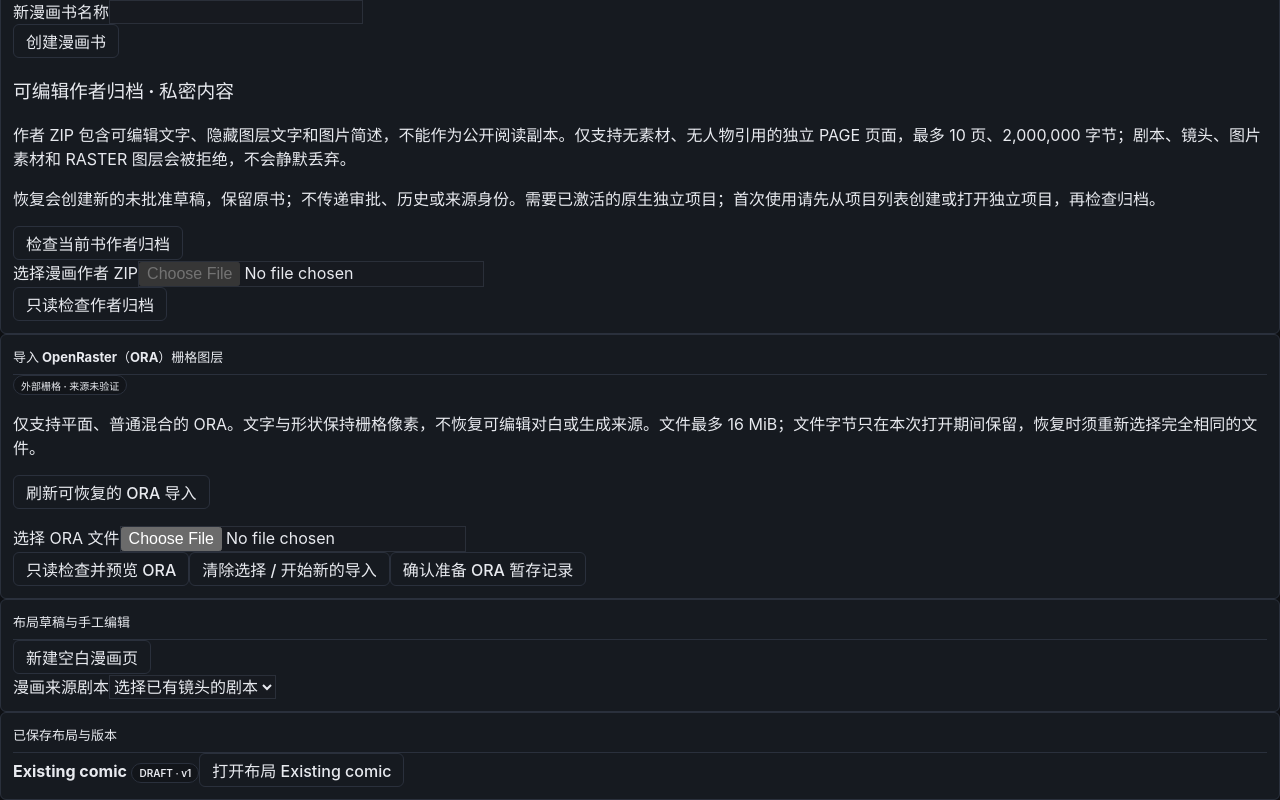
Scenario: an explicitly stale backend record hides an already opened private comic brief after refresh
(page scrolled)
Click the button "打开布局 Existing comic": {"x": 302, "y": 770} [199, 753, 404, 787]
(page scrolled)
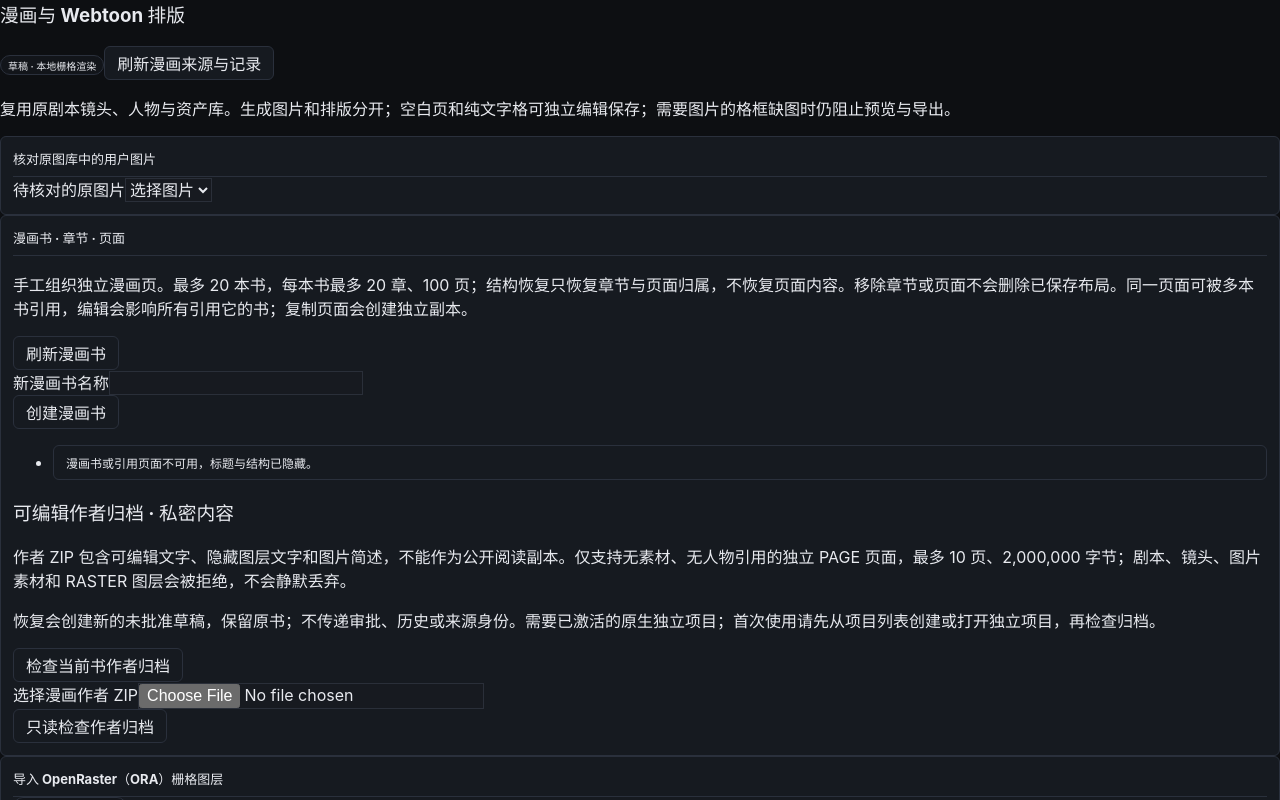
Click the button "刷新漫画来源与记录": {"x": 189, "y": 63} [104, 46, 274, 80]
(page scrolled)
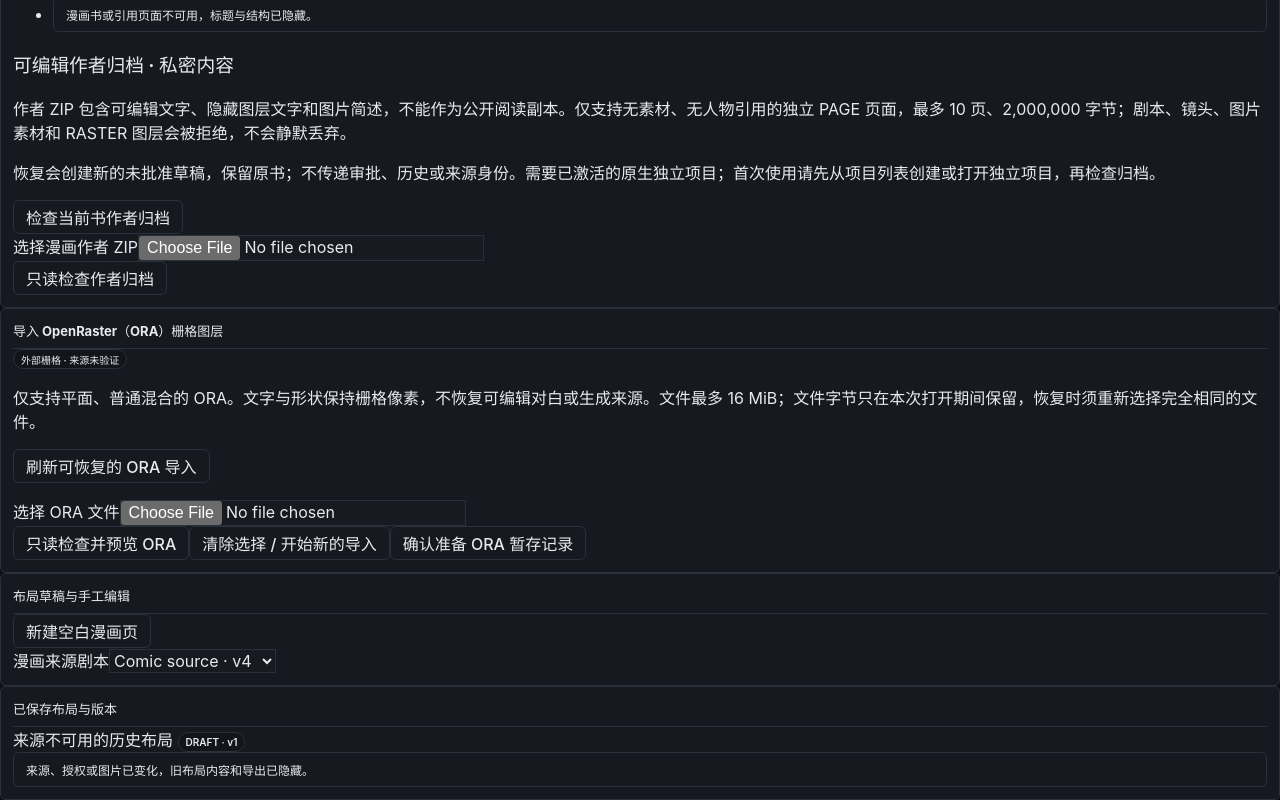
Expected: the text "来源、授权或图片已变化，旧布局内容和导出已隐藏。" is shown, [13, 752, 1267, 787]
